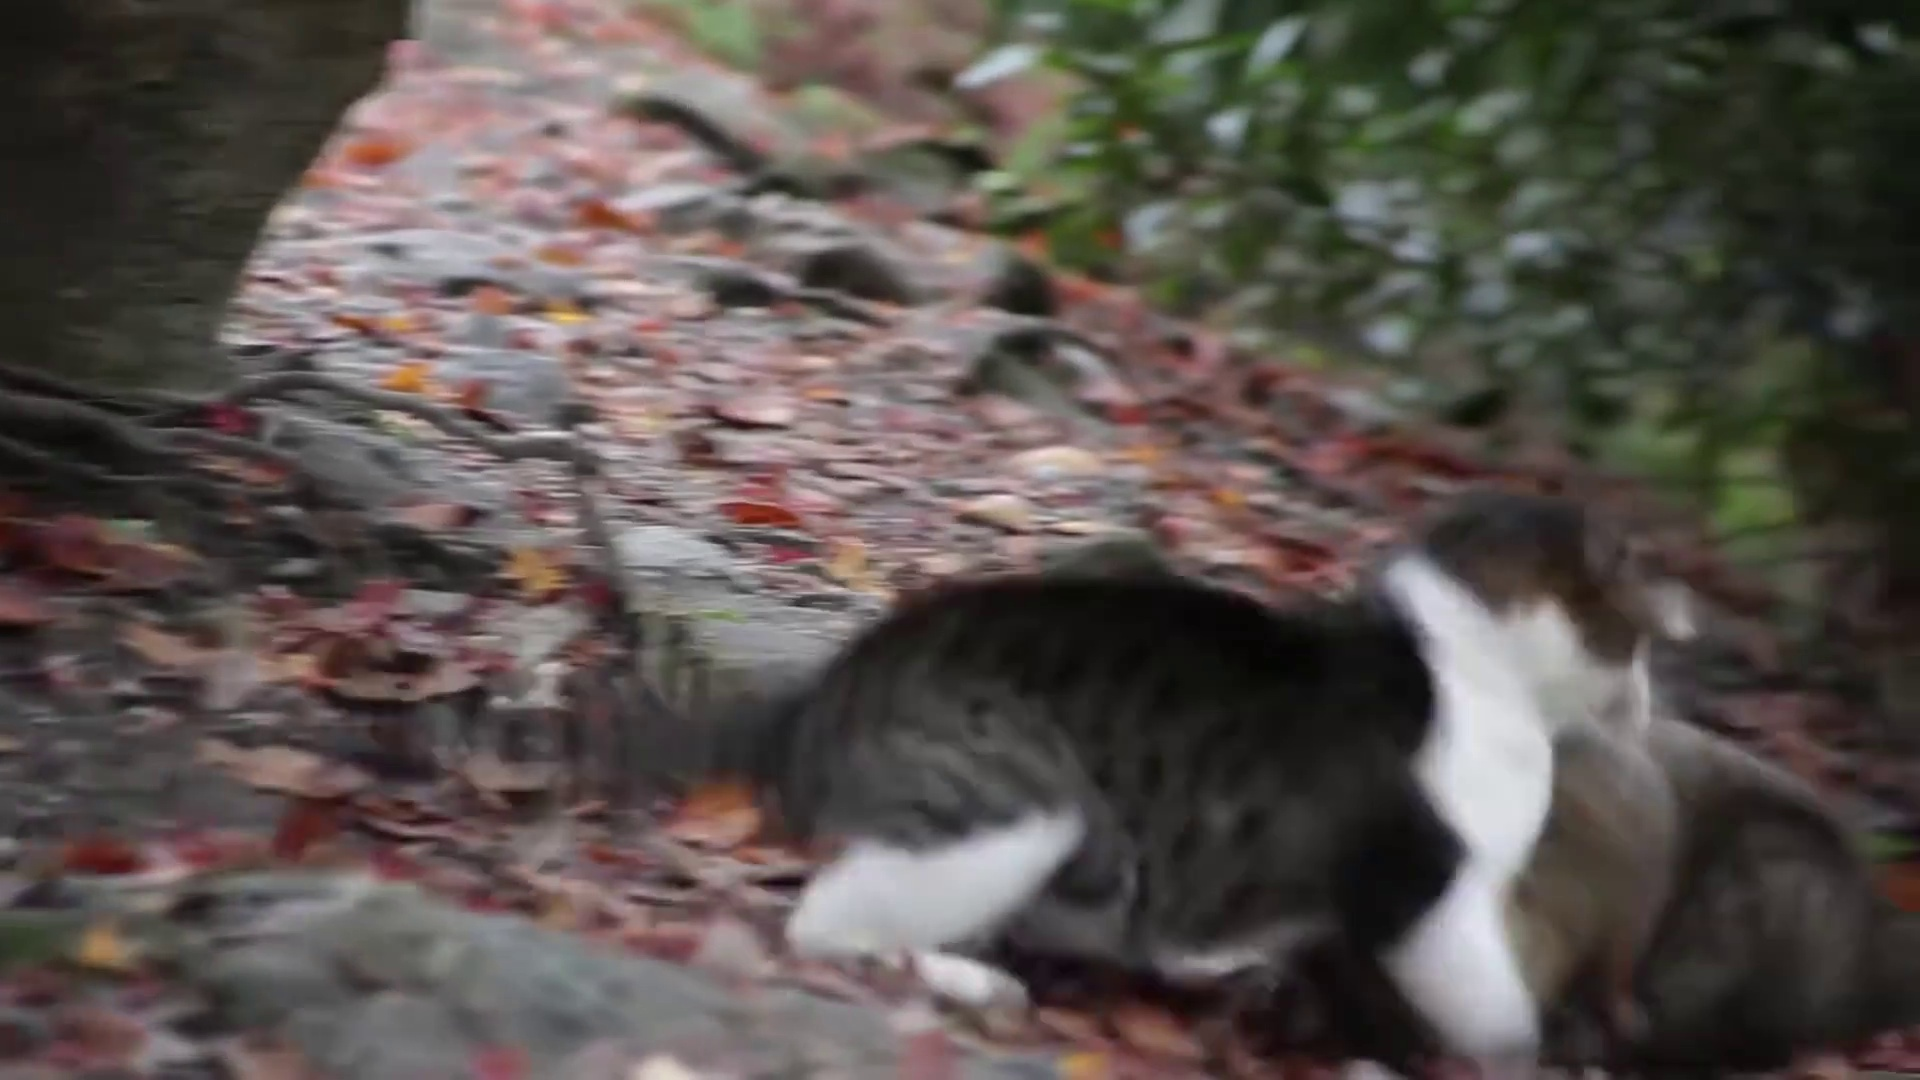black-white: (769, 495, 1633, 1069)
pure black: (1381, 713, 1878, 1080)
